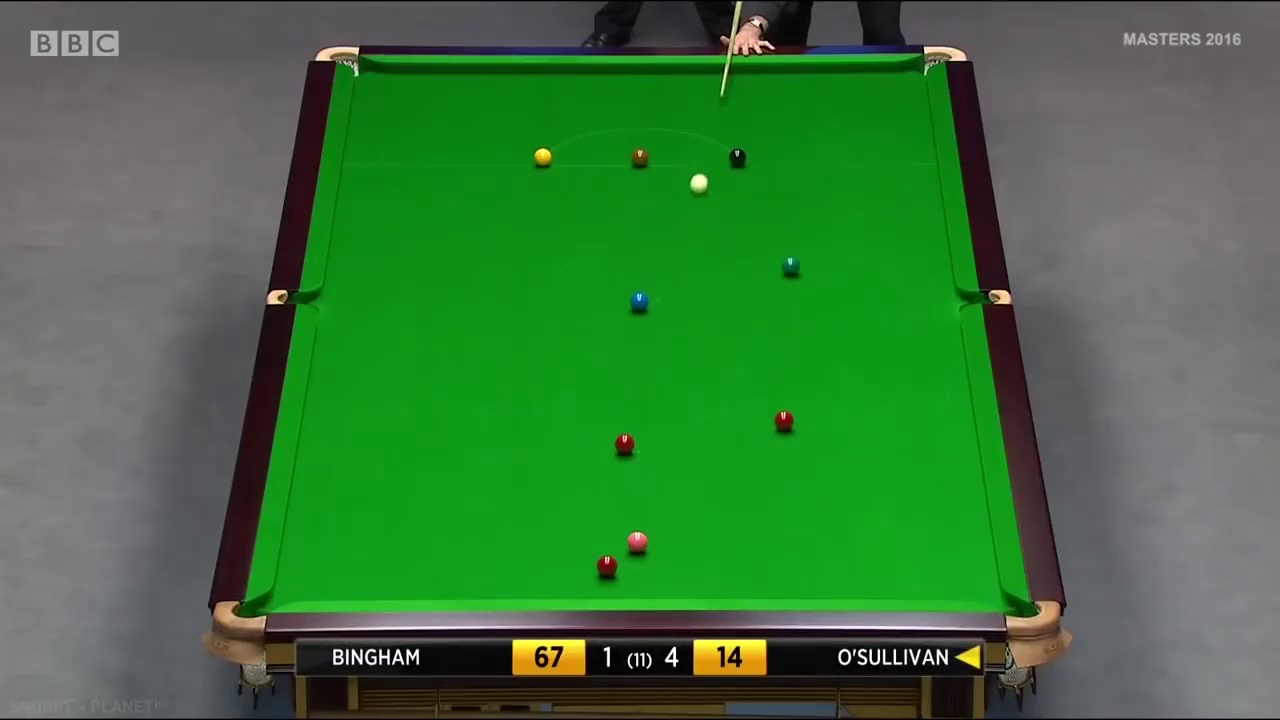ball: (614, 432, 634, 455), (772, 410, 793, 431), (626, 531, 646, 553), (531, 147, 555, 165), (595, 556, 616, 576), (690, 173, 709, 192), (782, 253, 801, 272), (730, 145, 746, 165), (628, 293, 647, 309), (633, 148, 648, 167)
